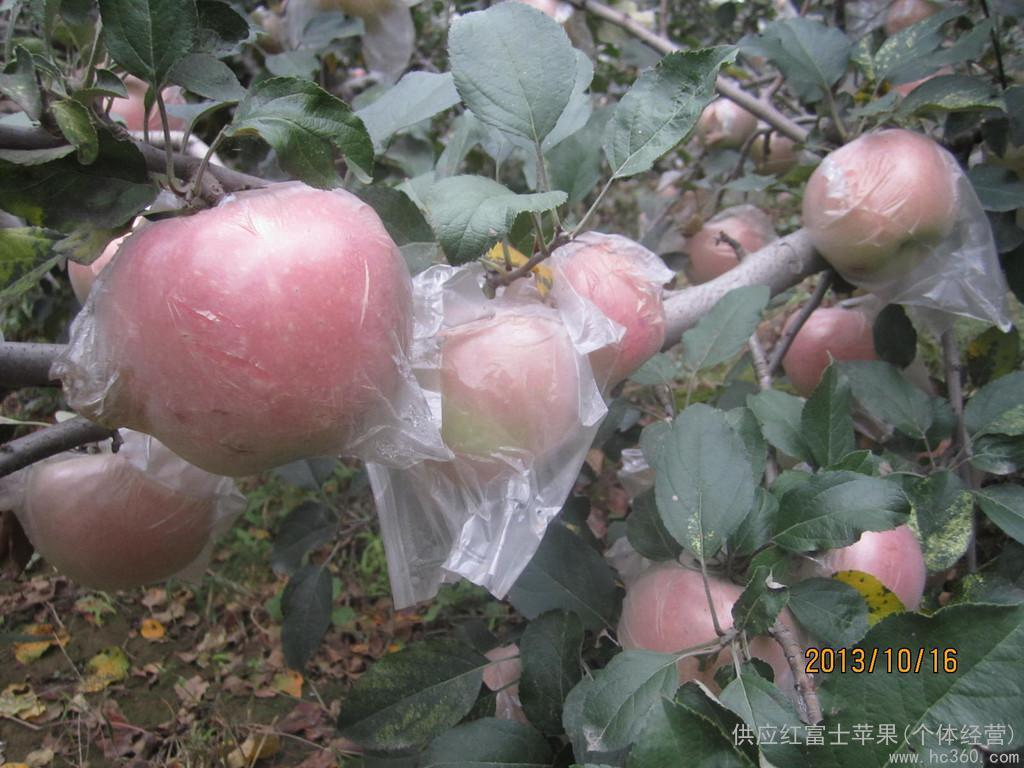apple: (93, 185, 420, 484), (401, 295, 588, 493), (25, 446, 223, 593), (801, 127, 959, 295), (621, 568, 793, 692), (546, 240, 663, 390), (803, 522, 927, 612)
